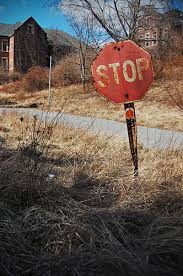stop: (87, 37, 157, 107)
